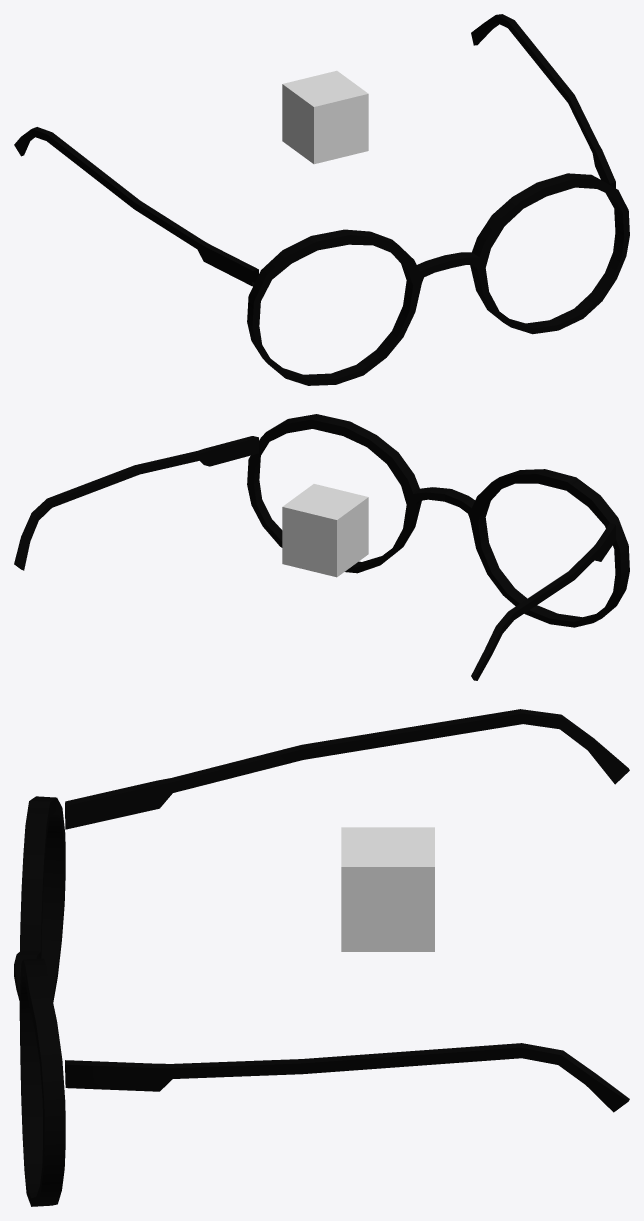
The model's file is girl_glasses5.FBX.
3 views of the same model, one above another, from view 1: azimuth 30°, elevation 25°; view 2: azimuth 150°, elevation 25°; view 3: azimuth 270°, elevation 25° (orthographic). The views are drawn at different scales.
Visible parts, largest first — view 1: girl_glasses014, faceSpawn; view 2: girl_glasses014, faceSpawn; view 3: girl_glasses014, faceSpawn.
Boxes of the visible parts, <box> form: girl_glasses014: <box>14,14,629,385</box>; faceSpawn: <box>282,70,368,164</box>; girl_glasses014: <box>14,414,629,680</box>; faceSpawn: <box>282,484,368,577</box>; girl_glasses014: <box>14,709,629,1206</box>; faceSpawn: <box>341,827,434,951</box>.
Bounding box in the file's own units: 43.03 × 15.69 × 32.88.
